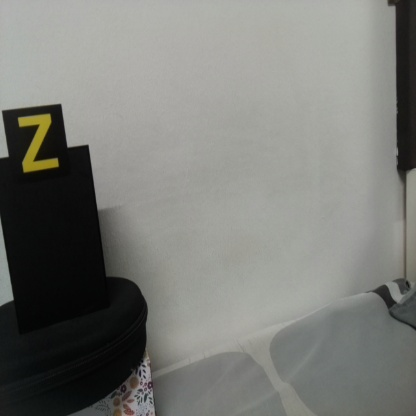id_15: (2, 109, 67, 181)
